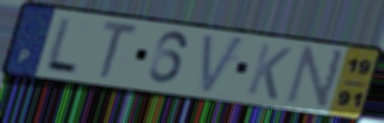6: (147, 29, 191, 89)
K: (243, 42, 294, 103)
L: (42, 15, 81, 77)
N: (282, 44, 348, 113)
T: (97, 19, 141, 82)
V: (198, 31, 248, 97)
